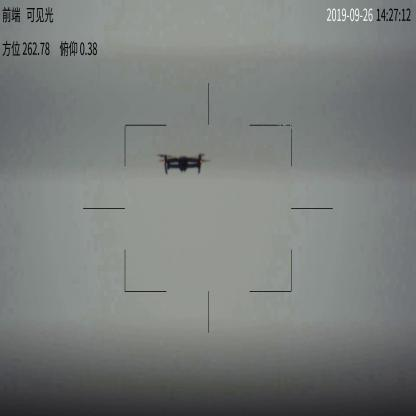uav: (152, 151, 214, 174)
